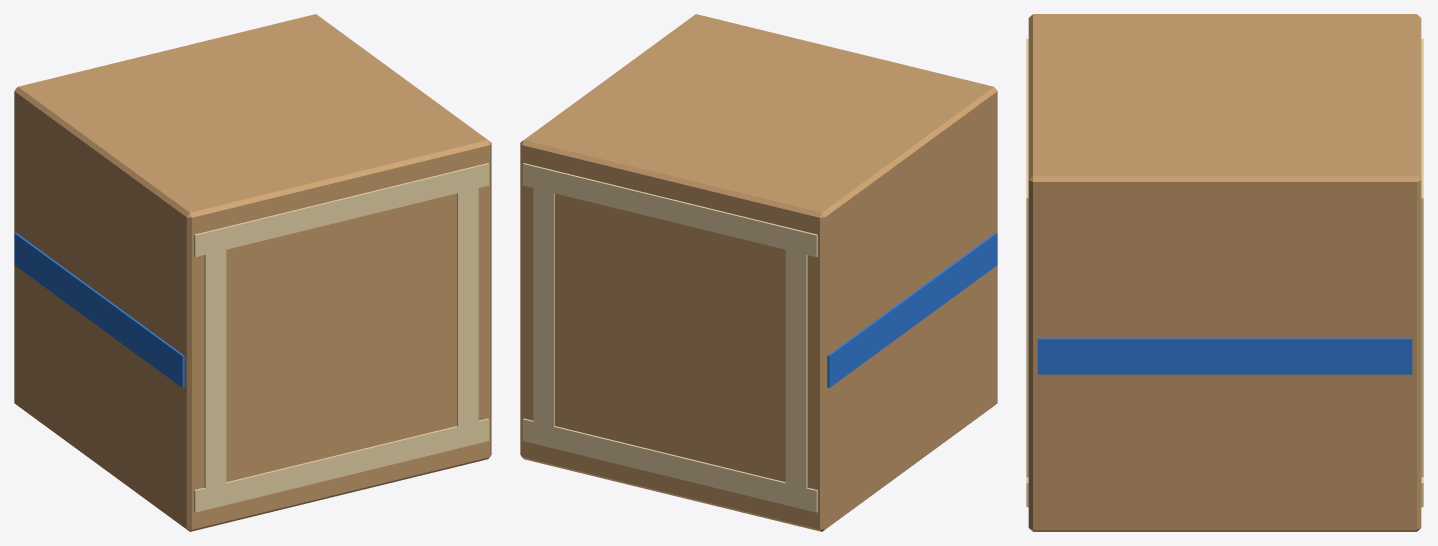
Rendered from fps_crate.glb.
3 views of the same model, side by side, from view 1: azimuth 30°, elevation 25°; view 2: azimuth 150°, elevation 25°; view 3: azimuth 270°, elevation 25° (orthographic). The views are drawn at different scales.
Parts seen in each view (by area): view 1: Wooden toy crate, detail_Paper tape, detail_Blueberry; view 2: Wooden toy crate, detail_Paper tape, detail_Blueberry; view 3: Wooden toy crate, detail_Blueberry, detail_Paper tape.
Boxes of the visible parts, left/top/right/bottom form: Wooden toy crate: left=14, top=14, right=491, bottom=531; detail_Paper tape: left=194, top=163, right=489, bottom=512; detail_Blueberry: left=14, top=232, right=184, bottom=387; Wooden toy crate: left=520, top=14, right=997, bottom=531; detail_Paper tape: left=522, top=163, right=817, bottom=512; detail_Blueberry: left=827, top=232, right=997, bottom=387; Wooden toy crate: left=1028, top=14, right=1421, bottom=531; detail_Blueberry: left=1037, top=338, right=1412, bottom=374; detail_Paper tape: left=1026, top=38, right=1423, bottom=507.
Size of the model in its own units: 2.23 by 2.2 by 2.23.
